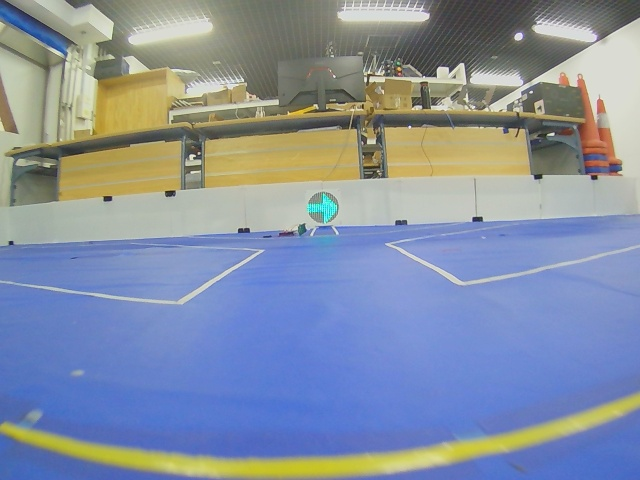right_green: (307, 192, 339, 224)
